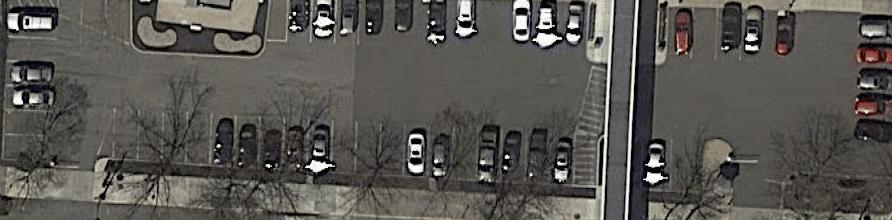parkingspot: (111, 105, 577, 188), (285, 0, 590, 49), (1, 12, 60, 167), (664, 4, 799, 65), (850, 13, 892, 147), (642, 135, 707, 195), (56, 0, 132, 46)
